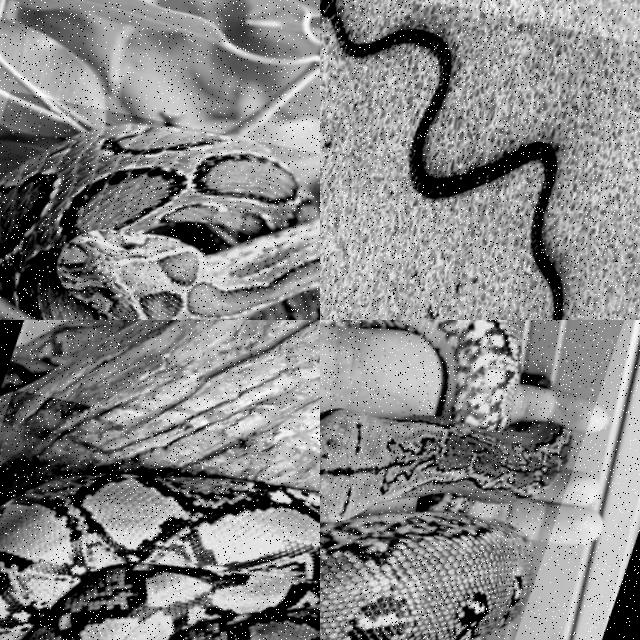Chrysopelea ornata: (320, 0, 563, 319)
Daboia siamensis: (0, 124, 319, 319)
Malayopython reticulatus: (320, 320, 570, 639), (0, 474, 319, 639)
snake: (320, 320, 570, 639), (320, 0, 563, 319), (0, 124, 319, 319), (0, 474, 319, 639)
